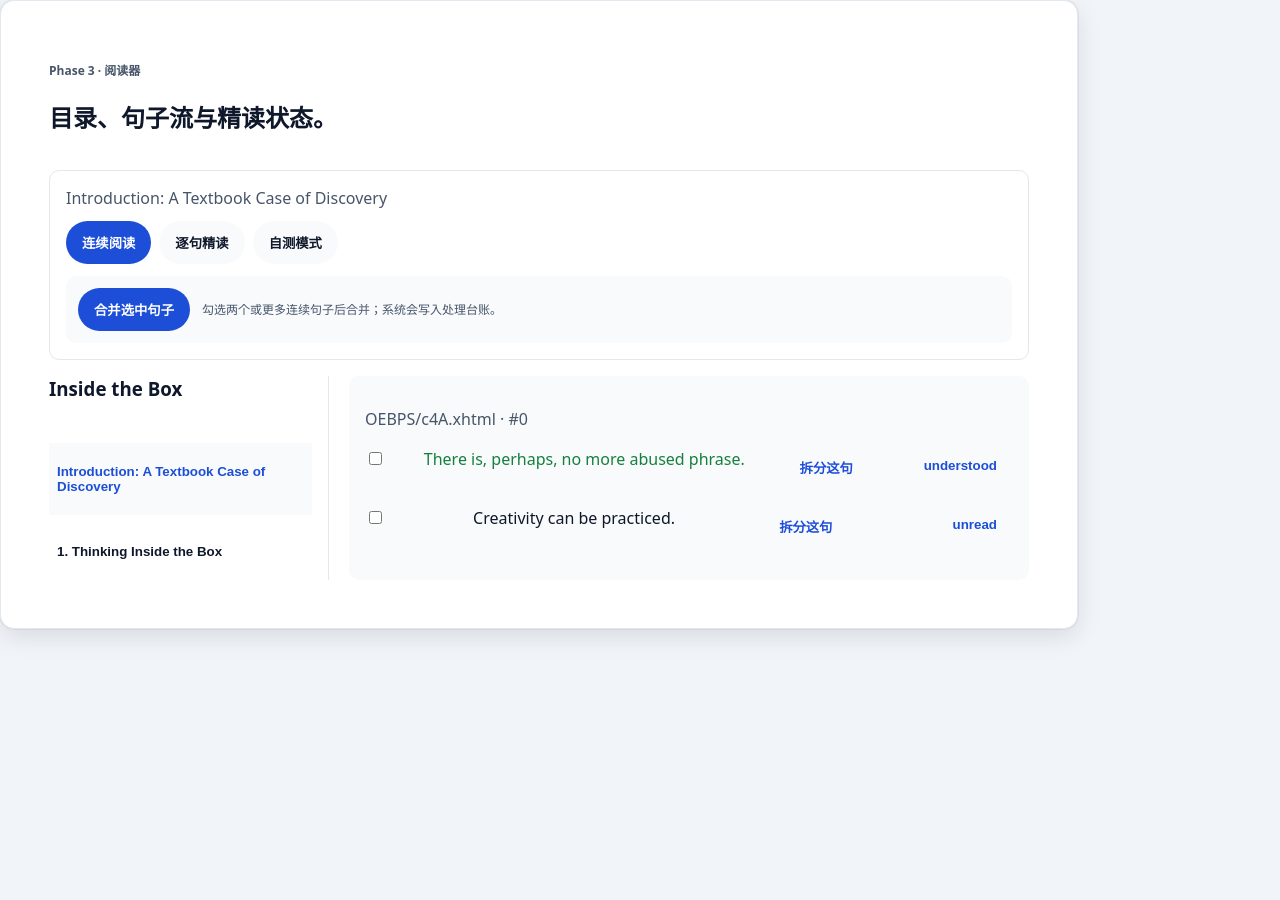
ReaderPanel › switches from continuous reading to focused sentence mode
Click the button with test id "mode-focus".
click(202, 242)  # box [159,221,245,264]
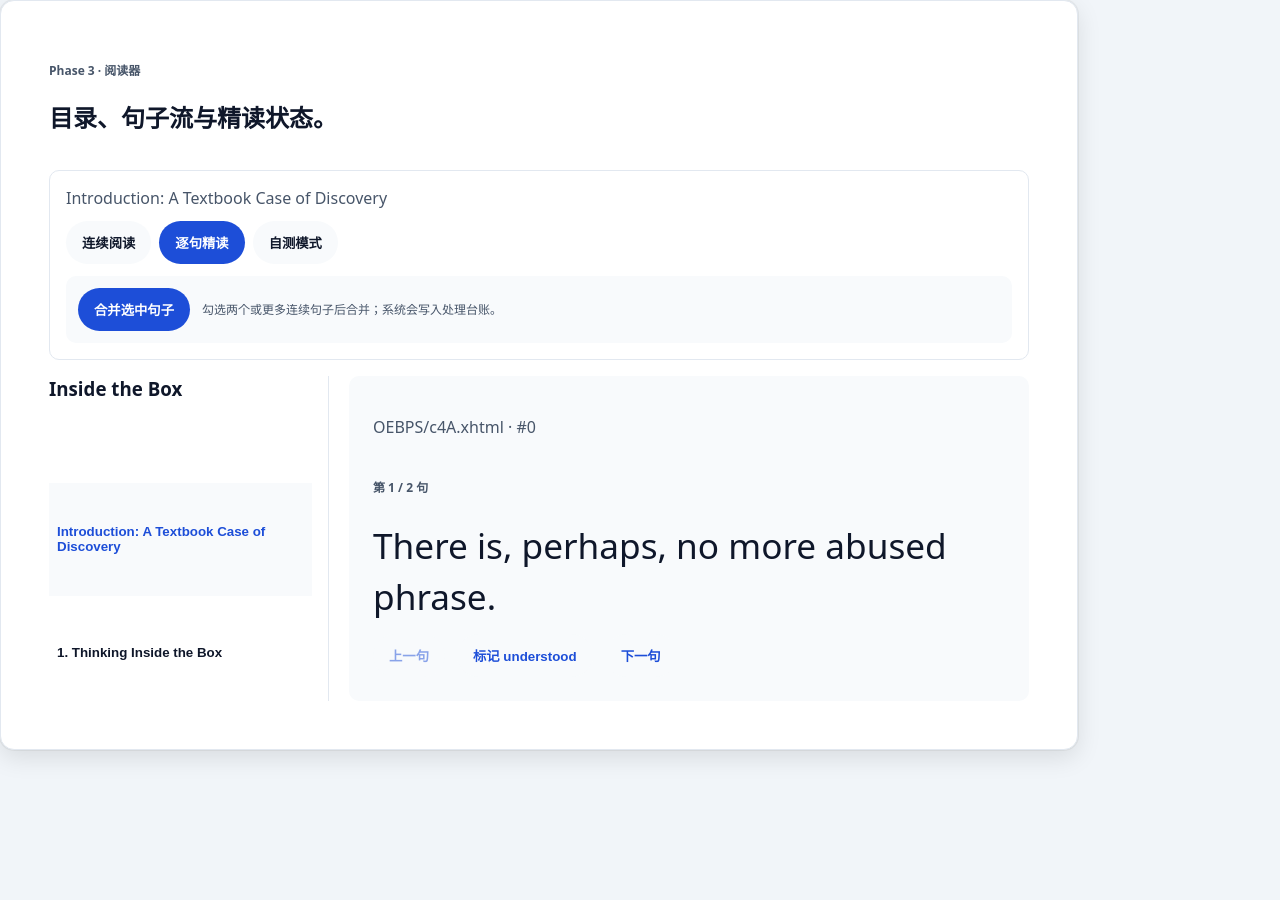
Expected: the text "There is, perhaps, no more abused phrase." is shown, [373,520,1005,622]
Now the text "第 1 / 2 句" is shown, box [373,479,428,496]
Now the text "Creativity can be practiced." is gone
Click the button with test id "focus-next".
click(641, 655)  # box [605,634,677,677]
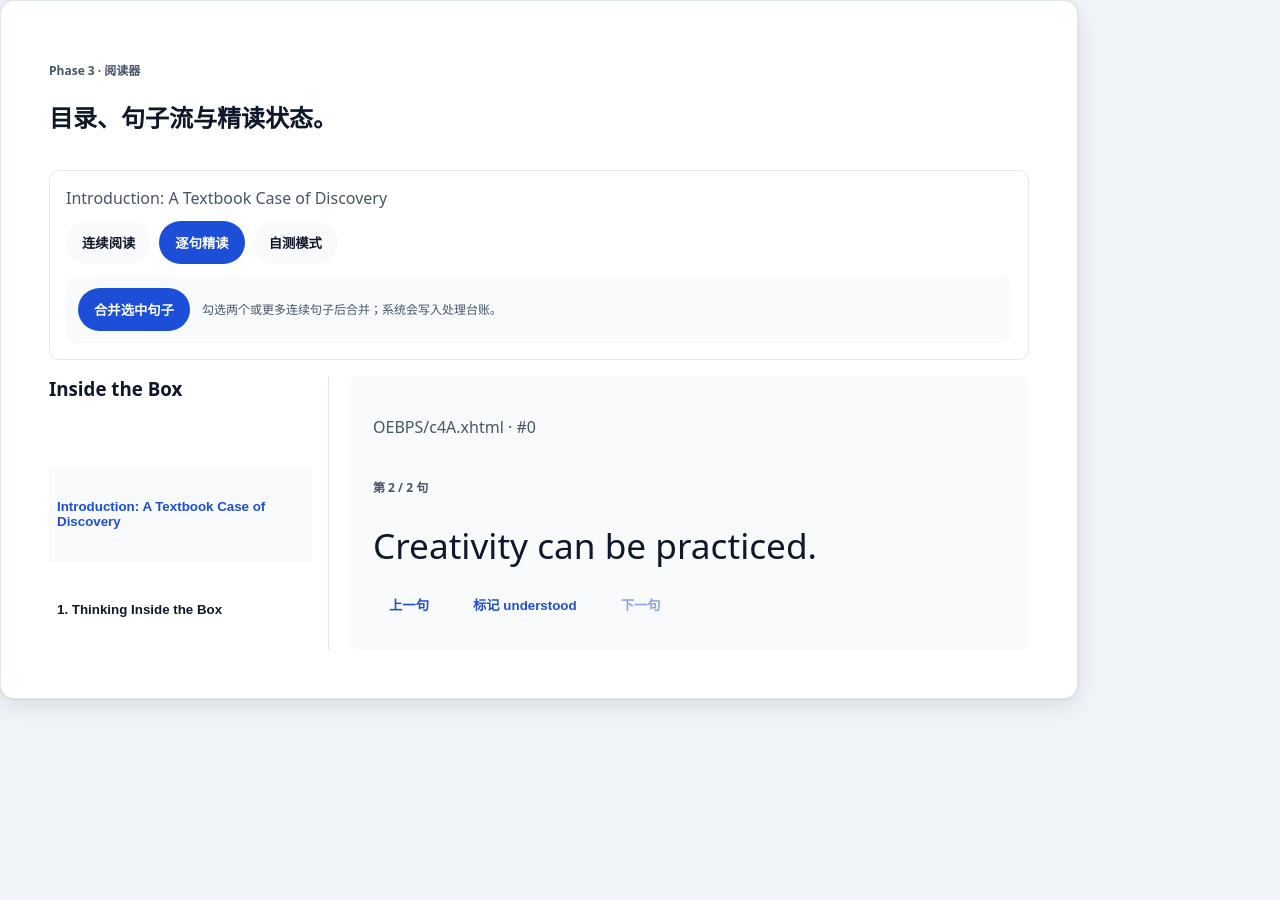
Now the text "第 2 / 2 句" is shown, box [373,479,428,496]
Now the text "Creativity can be practiced." is shown, box [373,521,817,569]
